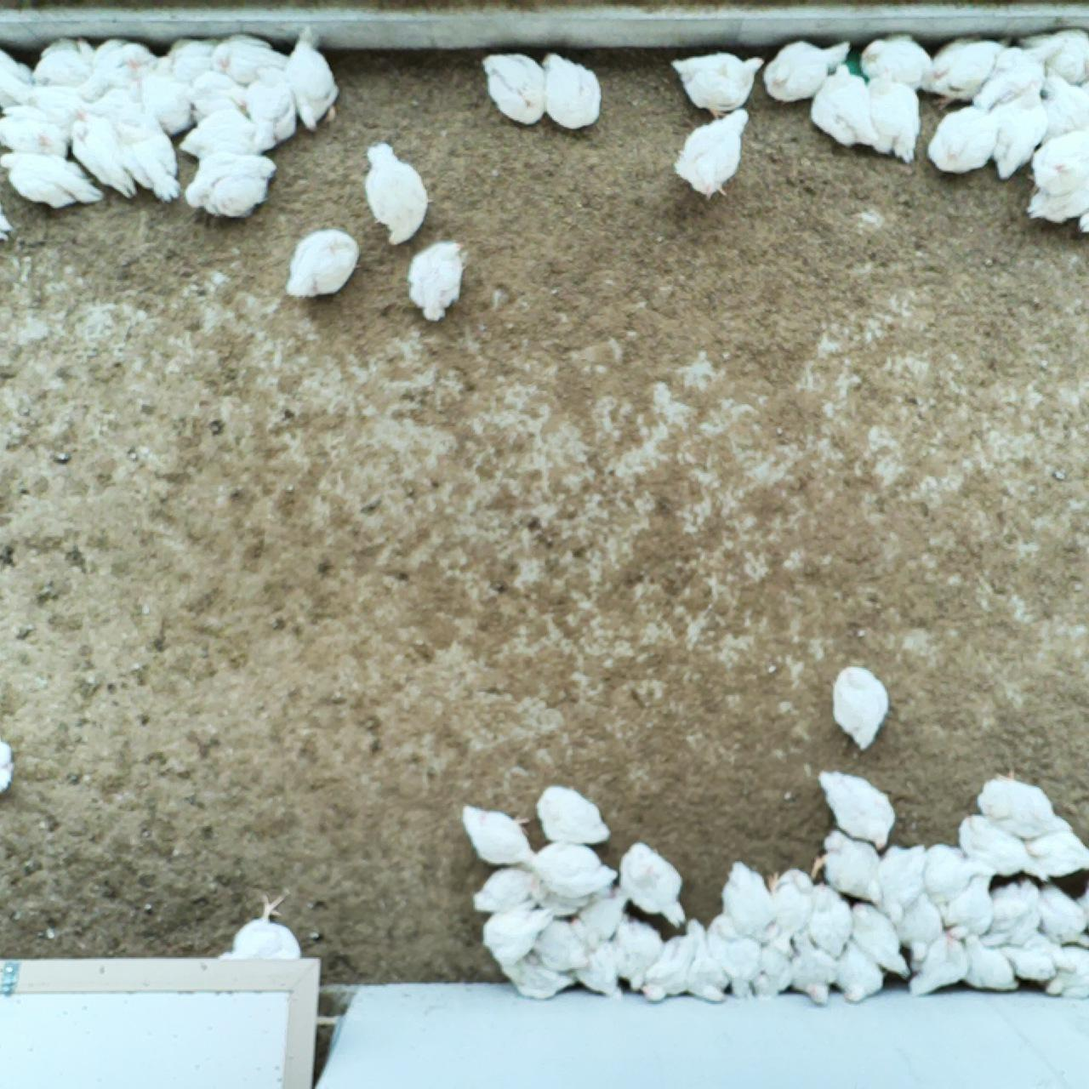chicken: (359, 138, 433, 253), (670, 104, 753, 201), (180, 146, 282, 220), (978, 765, 1074, 841), (212, 892, 311, 965), (0, 148, 110, 213), (65, 101, 136, 201), (817, 767, 898, 854), (670, 50, 766, 122), (615, 839, 690, 929), (285, 21, 344, 134), (111, 114, 184, 205), (807, 828, 890, 908), (758, 38, 855, 105), (823, 663, 896, 751), (924, 36, 1009, 111), (986, 77, 1046, 183), (974, 36, 1061, 109), (925, 97, 1004, 177), (534, 45, 604, 134), (958, 814, 1045, 885), (808, 61, 879, 148), (456, 801, 542, 872), (860, 68, 922, 163), (284, 228, 362, 302), (178, 107, 278, 164), (859, 30, 941, 98), (520, 840, 620, 895), (867, 839, 930, 925), (405, 237, 468, 323), (533, 784, 616, 849), (706, 909, 763, 1003), (478, 50, 547, 126), (721, 859, 779, 949), (919, 838, 996, 905), (848, 900, 912, 980), (242, 61, 300, 149), (78, 38, 159, 101), (481, 894, 551, 966), (491, 943, 575, 1003), (952, 926, 1024, 995), (905, 930, 974, 1001), (1021, 125, 1089, 196), (1031, 66, 1089, 147), (136, 52, 193, 134), (994, 931, 1075, 988), (826, 934, 888, 1008), (888, 889, 946, 968), (680, 916, 730, 1006), (784, 927, 840, 1007), (770, 863, 818, 956), (610, 911, 664, 993), (208, 29, 293, 81), (639, 934, 701, 1005), (1018, 24, 1089, 85), (0, 103, 70, 163), (145, 31, 225, 83), (1020, 178, 1089, 238), (979, 885, 1040, 952), (941, 876, 998, 947), (466, 866, 539, 921), (20, 77, 93, 132), (1015, 829, 1089, 881), (1035, 878, 1089, 949), (805, 880, 853, 959), (72, 77, 150, 125), (529, 874, 605, 923), (530, 918, 596, 974), (28, 36, 101, 86), (749, 929, 797, 1005), (185, 67, 247, 122), (575, 882, 628, 945), (1045, 932, 1089, 1002), (575, 938, 620, 1003), (0, 45, 38, 107), (0, 738, 17, 795)
